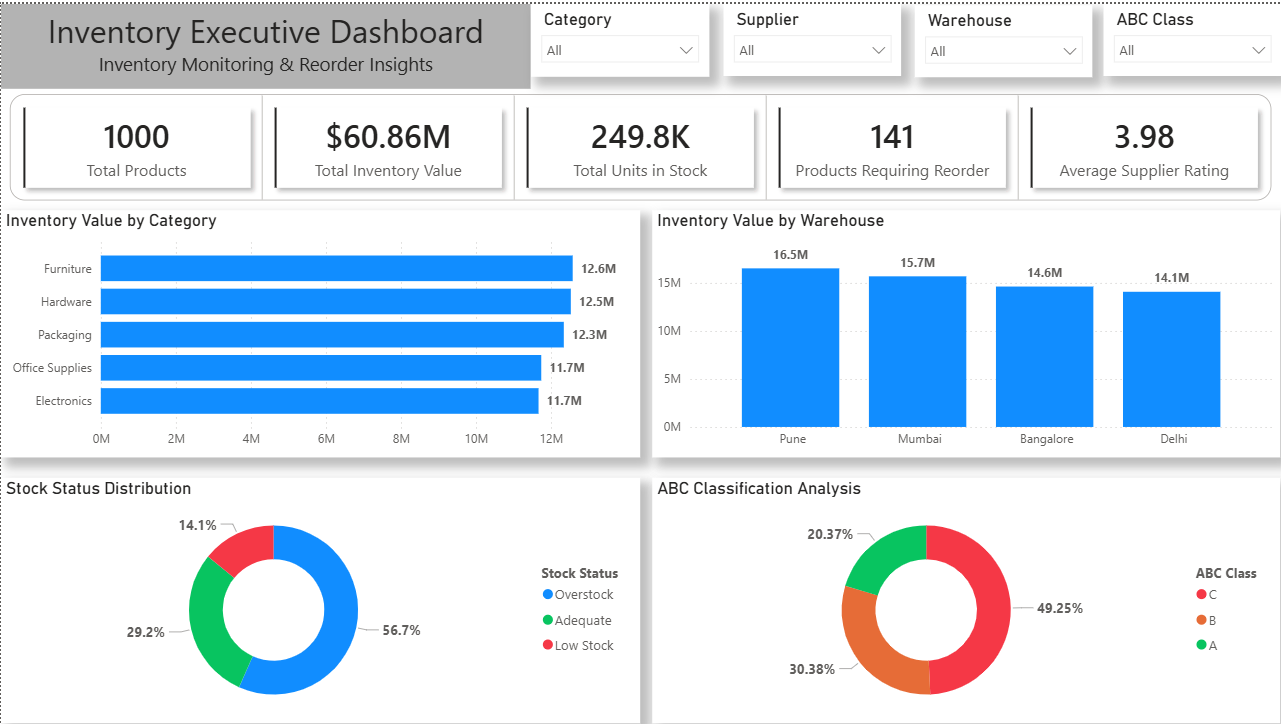

Layout of this report page (visuals, bound fields, positions):
{"tool":"powerbi","page":{"name":"Inventory Executive Dashboard","canvas":[1280,720],"ordinal":0},"visuals":[{"type":"cardVisual","fields":{"Data":["Measure.Total Products","Measure.Total Inventory Value","Measure.Total Units in Stock","Measure.Product Requiring Reorder","Measure.Average Supplier Rating"]},"box":[0,81.5,1280.2,124.7],"z":0},{"type":"clusteredBarChart","title":"Inventory Value by Category","fields":{"Category":["Inventory_Data.Category"],"Y":["Sum(Inventory_Data.Inventory Value)"]},"box":[0,206.2,639.5,246.9],"z":1000},{"type":"clusteredColumnChart","title":"Inventory Value by Warehouse","fields":{"Category":["Inventory_Data.Warehouse"],"Y":["Sum(Inventory_Data.Inventory Value)"]},"box":[651.9,206.2,628.4,246.9],"z":2000},{"type":"donutChart","title":"Stock Status Distribution","fields":{"Category":["Inventory_Data.Stock Status"],"Y":["CountNonNull(Inventory_Data.Product ID)"]},"box":[0,474.1,639.5,245.7],"z":3000},{"type":"donutChart","title":"ABC Classification Analysis","fields":{"Category":["Inventory_Data.ABC Class"],"Y":["Sum(Inventory_Data.Inventory Value)"]},"box":[651.9,474.1,628.4,245.7],"z":4000},{"type":"textbox","box":[0,0,529.6,85.2],"z":5000},{"type":"slicer","fields":{"Values":["Inventory_Data.Category"]},"box":[529.6,0,178,72.8],"z":6000},{"type":"slicer","fields":{"Values":["Inventory_Data.Supplier"]},"box":[722.2,0,177.8,71.6],"z":7000},{"type":"slicer","fields":{"Values":["Inventory_Data.Warehouse"]},"box":[913.6,1.2,177.8,71.6],"z":8000},{"type":"slicer","fields":{"Values":["Inventory_Data.ABC Class"]},"box":[1102.5,0,177.8,71.6],"z":9000}]}

Visuals, with their boxes in screenshot pixels (x1, y1, x2, y2), scaled from the page's 1280x720 canvas onto the 1281x724 screenshot:
cardVisual - Measure.Total Products x Measure.Total Inventory Value: box=[0, 82, 1280, 207]
"Inventory Value by Category" clusteredBarChart: box=[0, 207, 640, 456]
"Inventory Value by Warehouse" clusteredColumnChart: box=[652, 207, 1280, 456]
"Stock Status Distribution" donutChart: box=[0, 477, 640, 723]
"ABC Classification Analysis" donutChart: box=[652, 477, 1280, 723]
textbox: box=[0, 0, 530, 86]
slicer - Inventory_Data.Category: box=[530, 0, 708, 73]
slicer - Inventory_Data.Supplier: box=[723, 0, 901, 72]
slicer - Inventory_Data.Warehouse: box=[914, 1, 1092, 73]
slicer - Inventory_Data.ABC Class: box=[1103, 0, 1280, 72]
